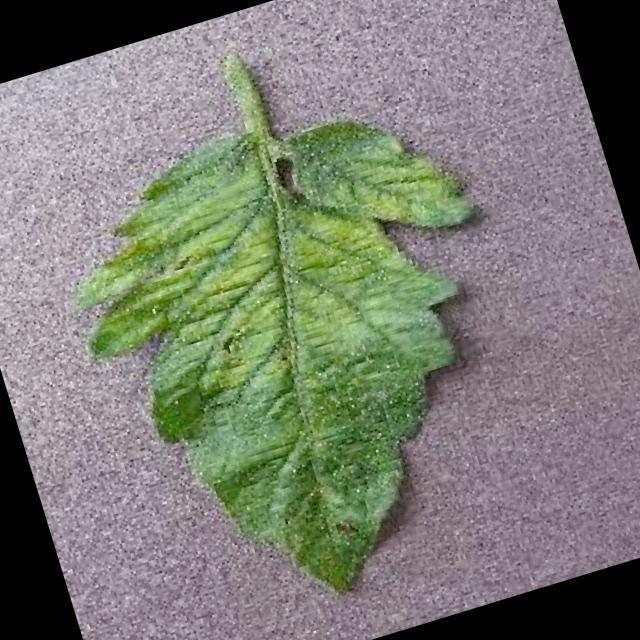Tomato mosaic virus leaf: (37, 74, 579, 640)
